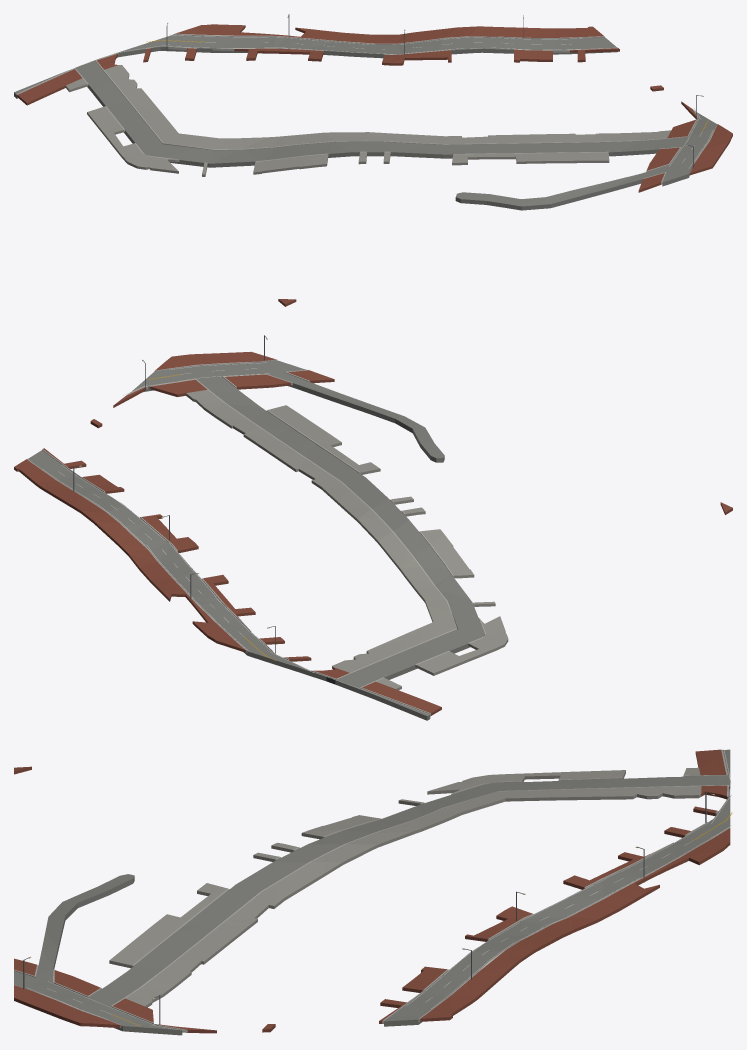
The picture shows the model from 3 angles, top to bottom: view 1: azimuth 30°, elevation 25°; view 2: azimuth 150°, elevation 25°; view 3: azimuth 270°, elevation 25°; orthographic projection. The views are drawn at different scales.
Bounding box in the file's own units: 147 × 19.2 × 146.
